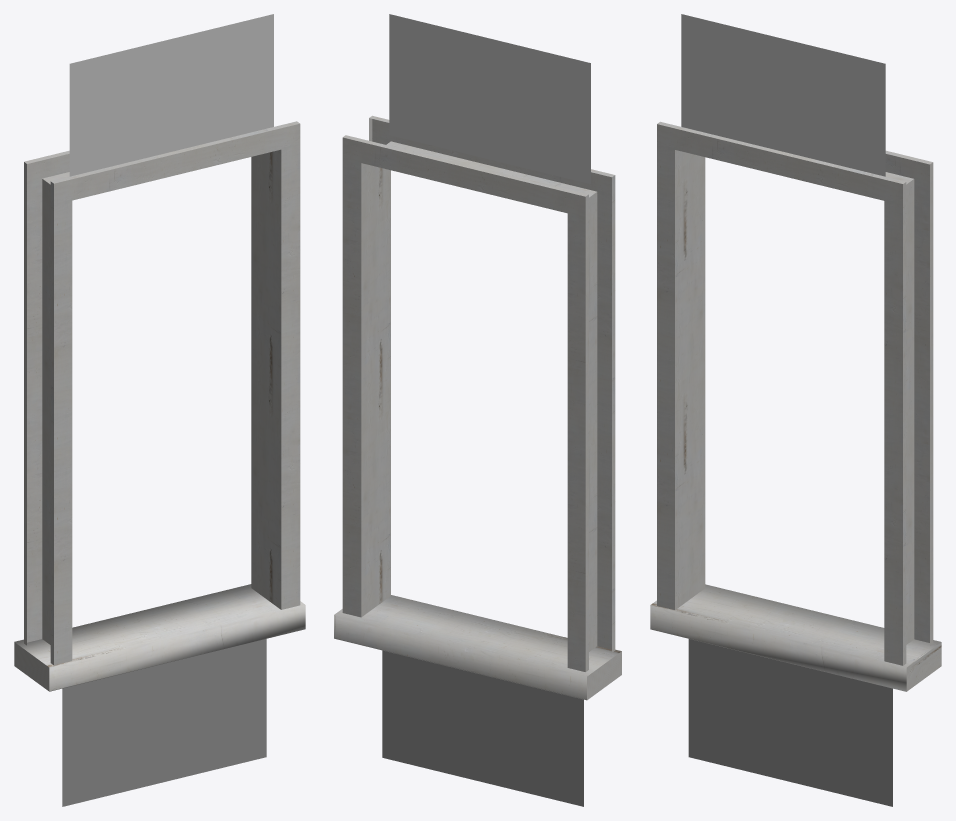
Rendered from Wall_Door_Single_A_1x_COL.FBX.
The picture shows the model from 3 angles, left to right: view 1: azimuth 30°, elevation 25°; view 2: azimuth 150°, elevation 25°; view 3: azimuth 330°, elevation 25°; orthographic projection.
Parts seen in each view (by area): view 1: Wall_Door_Single_A_1x_COL; view 2: Wall_Door_Single_A_1x_COL; view 3: Wall_Door_Single_A_1x_COL.
Boxes of the visible parts, box(x1,y1,x2,y2) form: Wall_Door_Single_A_1x_COL: box(14, 14, 305, 806); Wall_Door_Single_A_1x_COL: box(334, 14, 621, 806); Wall_Door_Single_A_1x_COL: box(650, 14, 941, 806).
Size of the model in its own units: 125 by 350 by 29.83.
